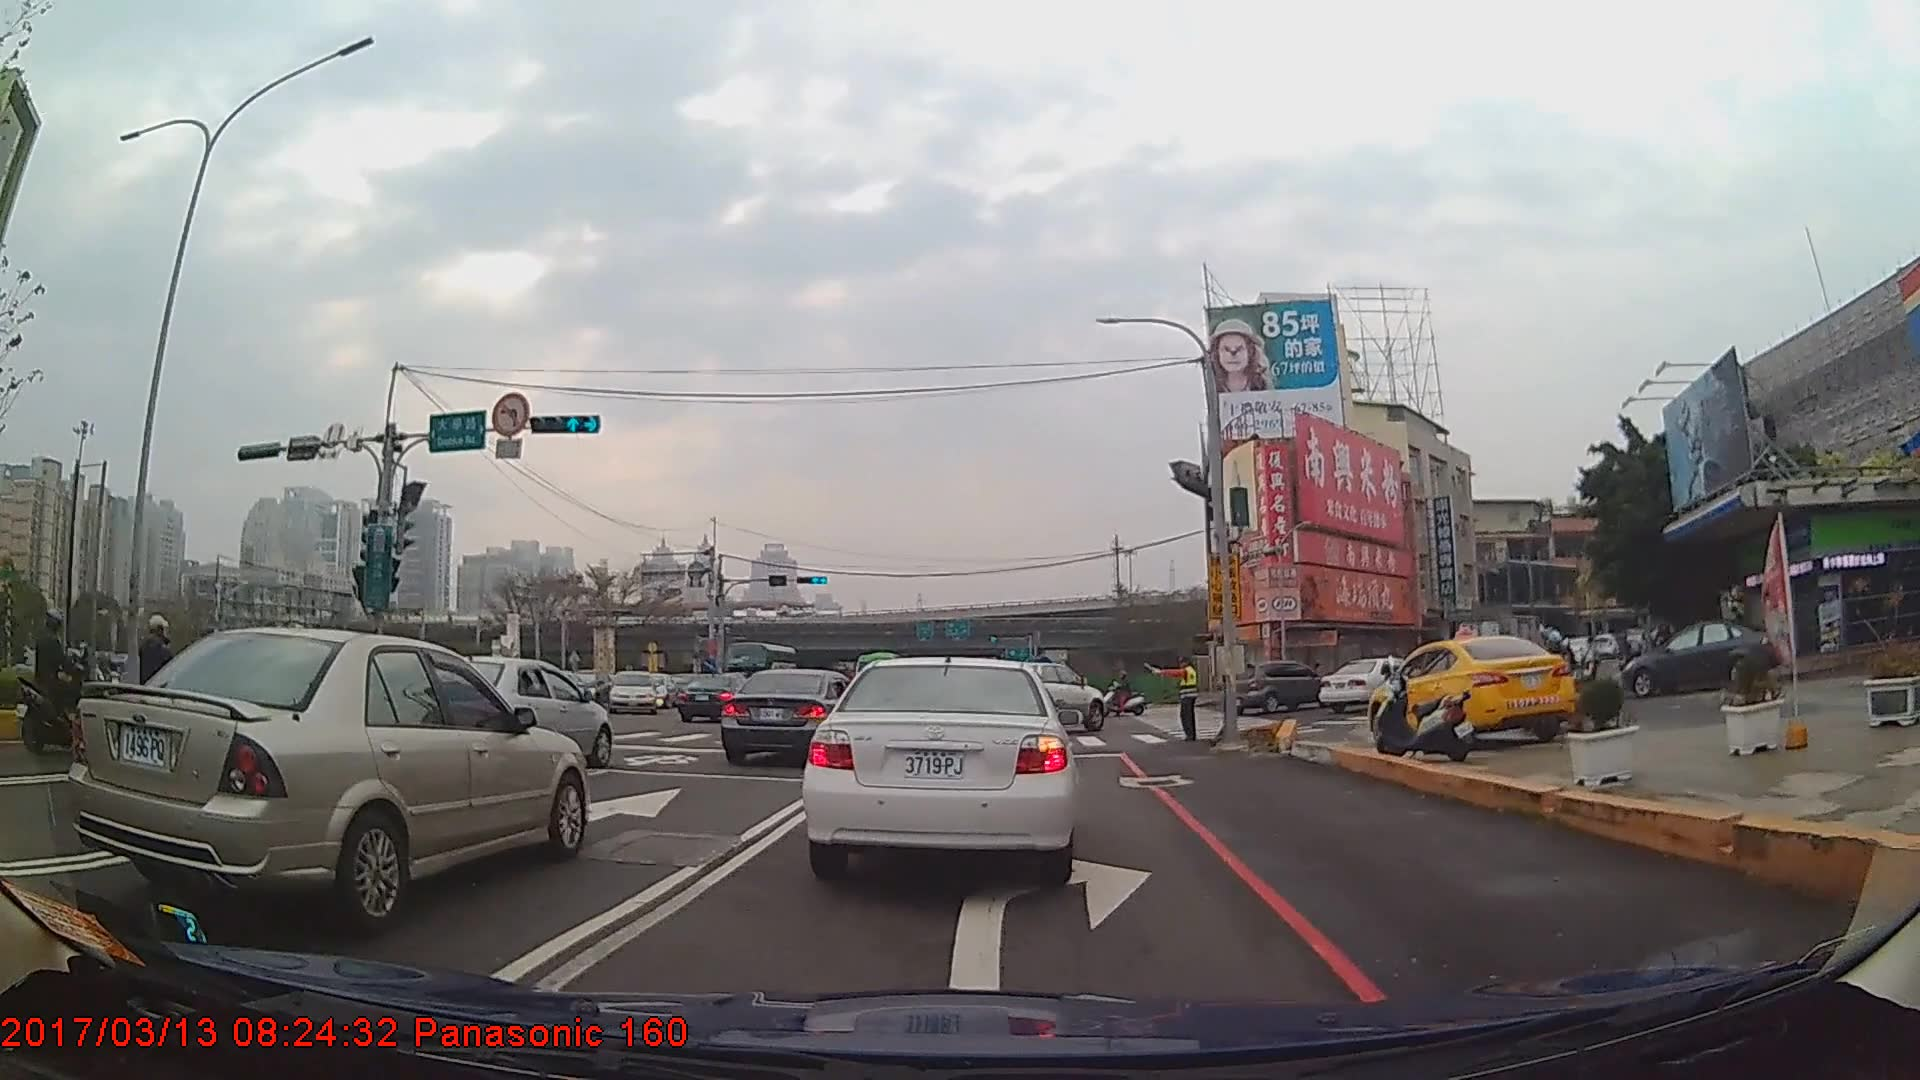pedestrian: (1143, 657, 1202, 741)
rider: (15, 612, 94, 760), (129, 615, 192, 774), (1100, 671, 1146, 720)
vehicle: (68, 628, 592, 928), (799, 653, 1080, 873), (1365, 632, 1579, 746), (423, 654, 614, 772), (720, 668, 864, 765), (1618, 620, 1782, 698), (998, 658, 1106, 735), (1220, 658, 1333, 713), (1318, 655, 1422, 712), (676, 668, 764, 722), (607, 670, 654, 715)
